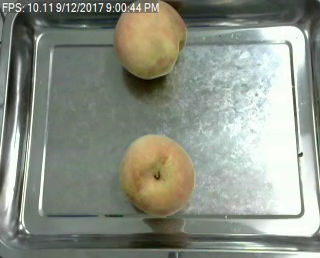Peach: (118, 133, 195, 216), (113, 1, 187, 79)
